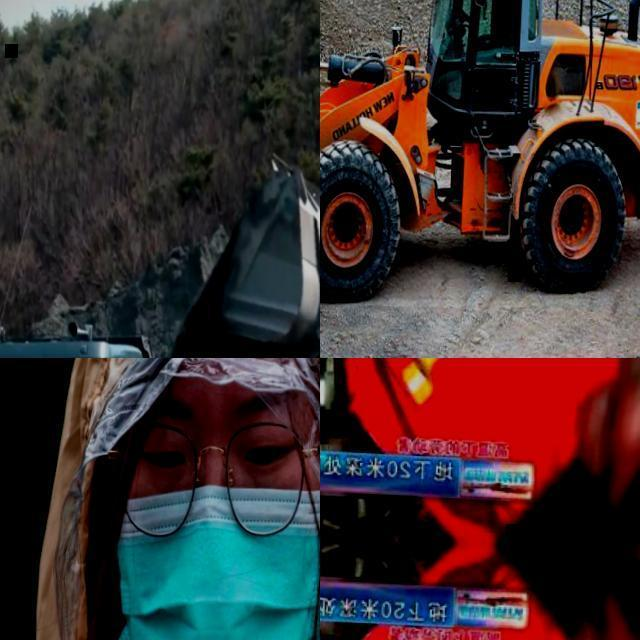no_helmet: (76, 359, 346, 640)
